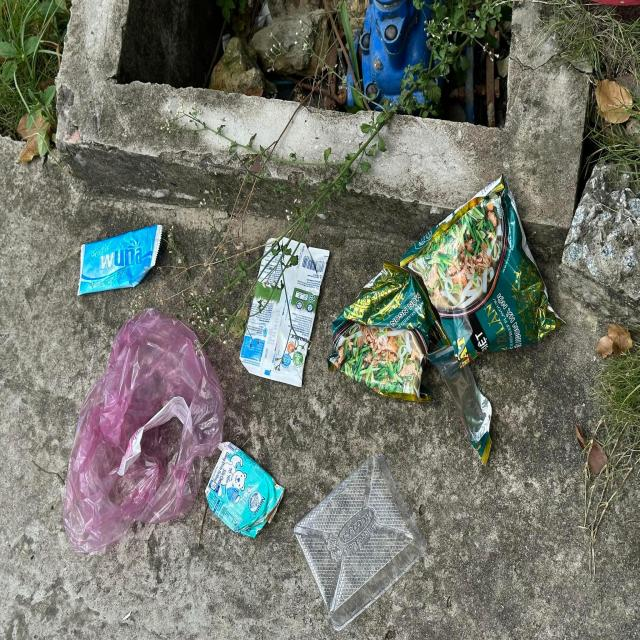bag: (65, 312, 225, 552)
milk box: (206, 441, 284, 541)
packet: (240, 237, 330, 387), (79, 223, 162, 296)
plastic holder: (293, 452, 428, 629)
snack package: (327, 265, 492, 468), (400, 172, 566, 359)
